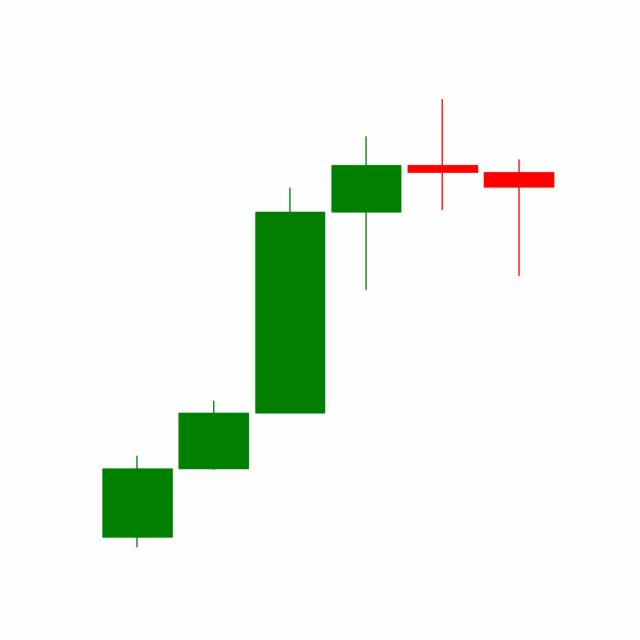Spinning Top: (403, 97, 481, 211)
